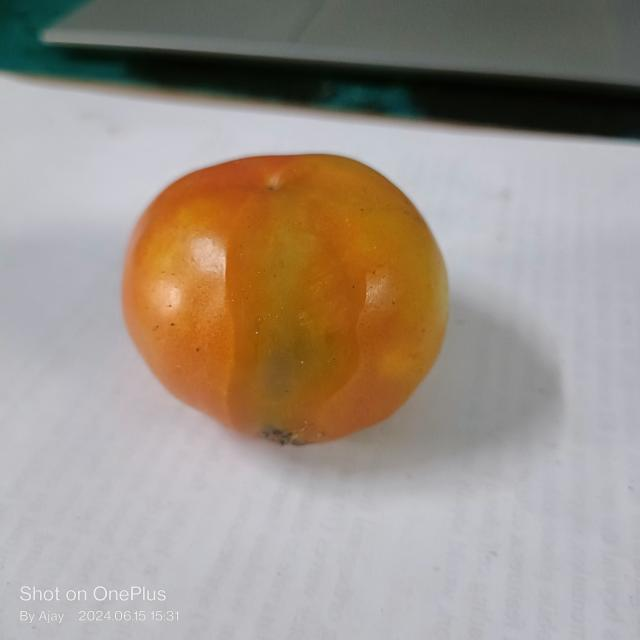Botrytis: (222, 195, 344, 443)
